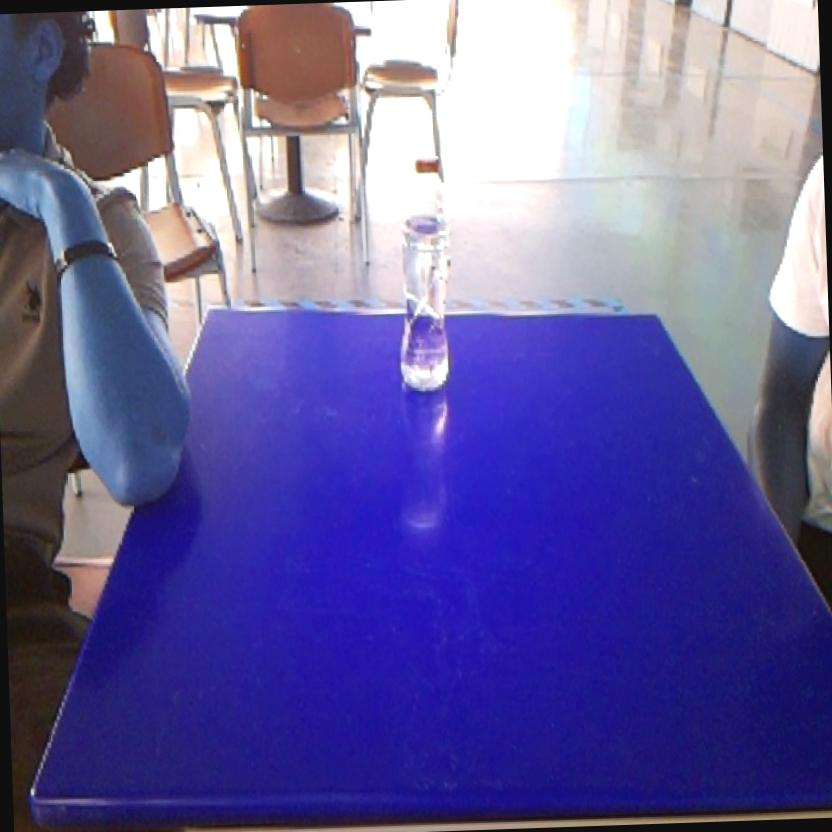no_label: (386, 146, 464, 402)
